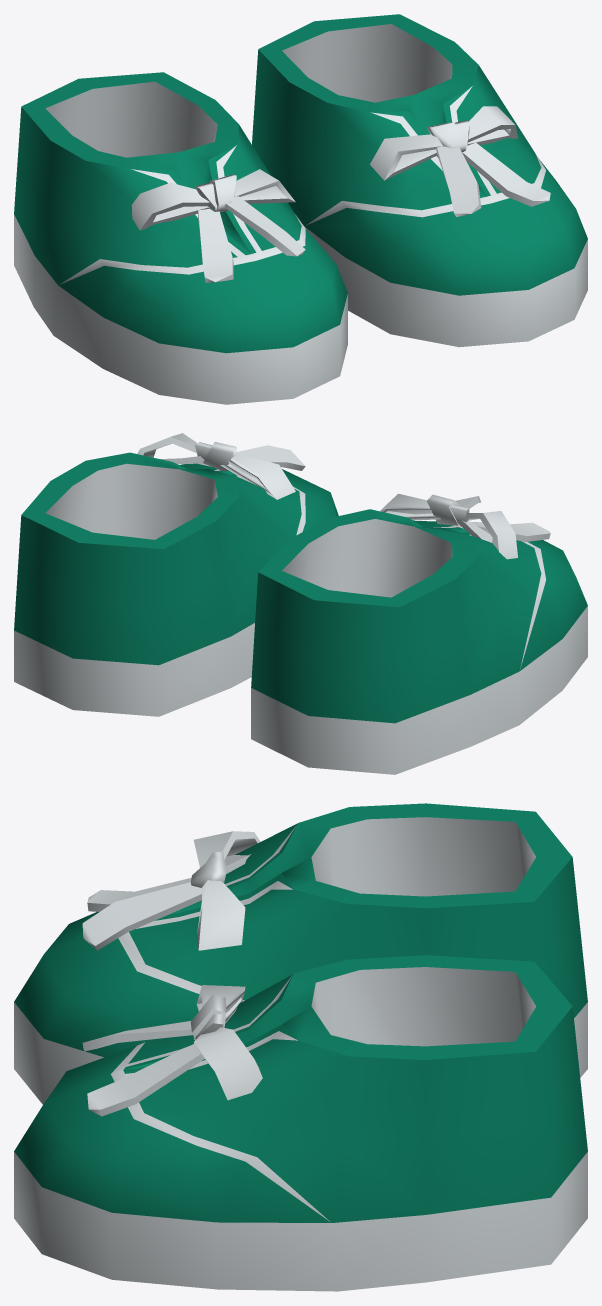
The model's file is Shoes_2.fbx.
3 views of the same model, one above another, from view 1: azimuth 30°, elevation 25°; view 2: azimuth 150°, elevation 25°; view 3: azimuth 270°, elevation 25° (orthographic). The views are drawn at different scales.
Visible parts, largest first — view 1: Shoes_2; view 2: Shoes_2; view 3: Shoes_2.
Boxes of the visible parts, bbox=[...] form: Shoes_2: bbox=[14, 14, 587, 404]; Shoes_2: bbox=[14, 433, 587, 774]; Shoes_2: bbox=[14, 803, 587, 1291].
Bounding box in the file's own units: 39.94 × 13.43 × 32.76.
